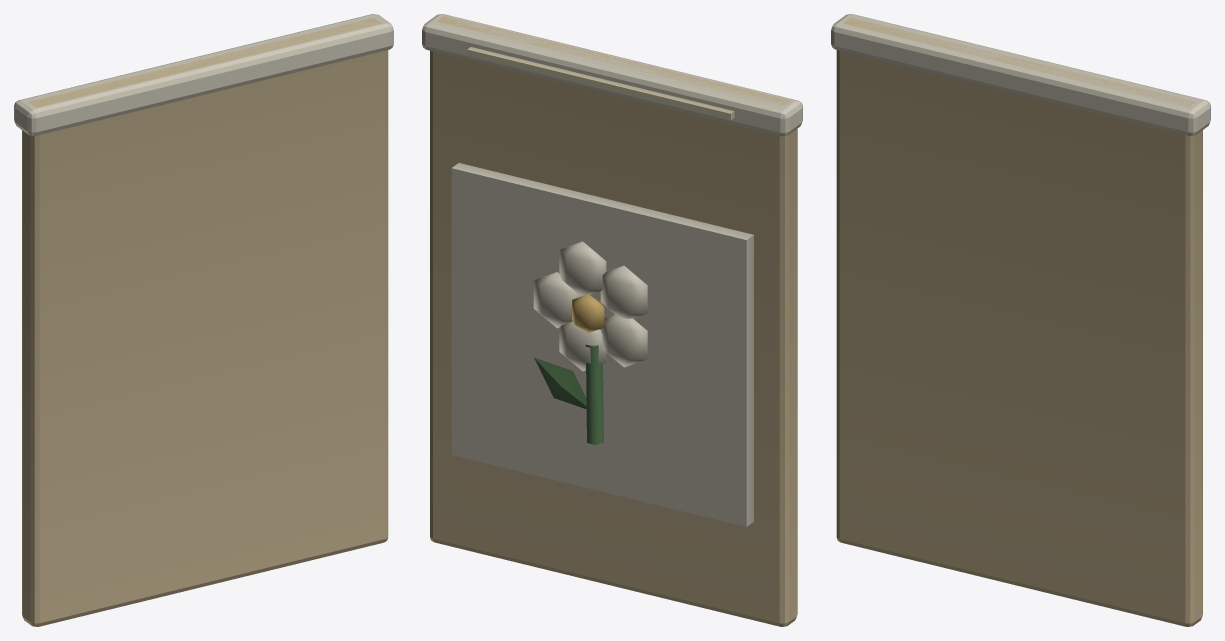
The model's file is seed_flower_white.glb.
3 views of the same model, side by side, from view 1: azimuth 30°, elevation 25°; view 2: azimuth 150°, elevation 25°; view 3: azimuth 330°, elevation 25° (orthographic).
Bounding box in the file's own units: 0.174 × 0.236 × 0.0318.
